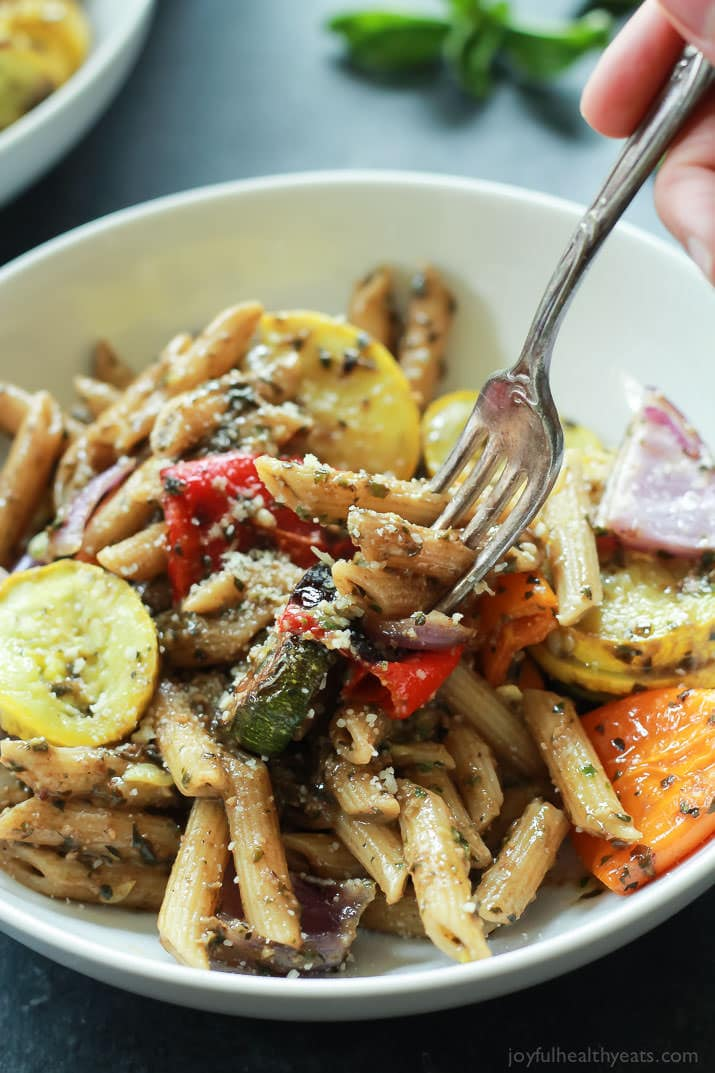plain spaghetti: (23, 345, 611, 940)
